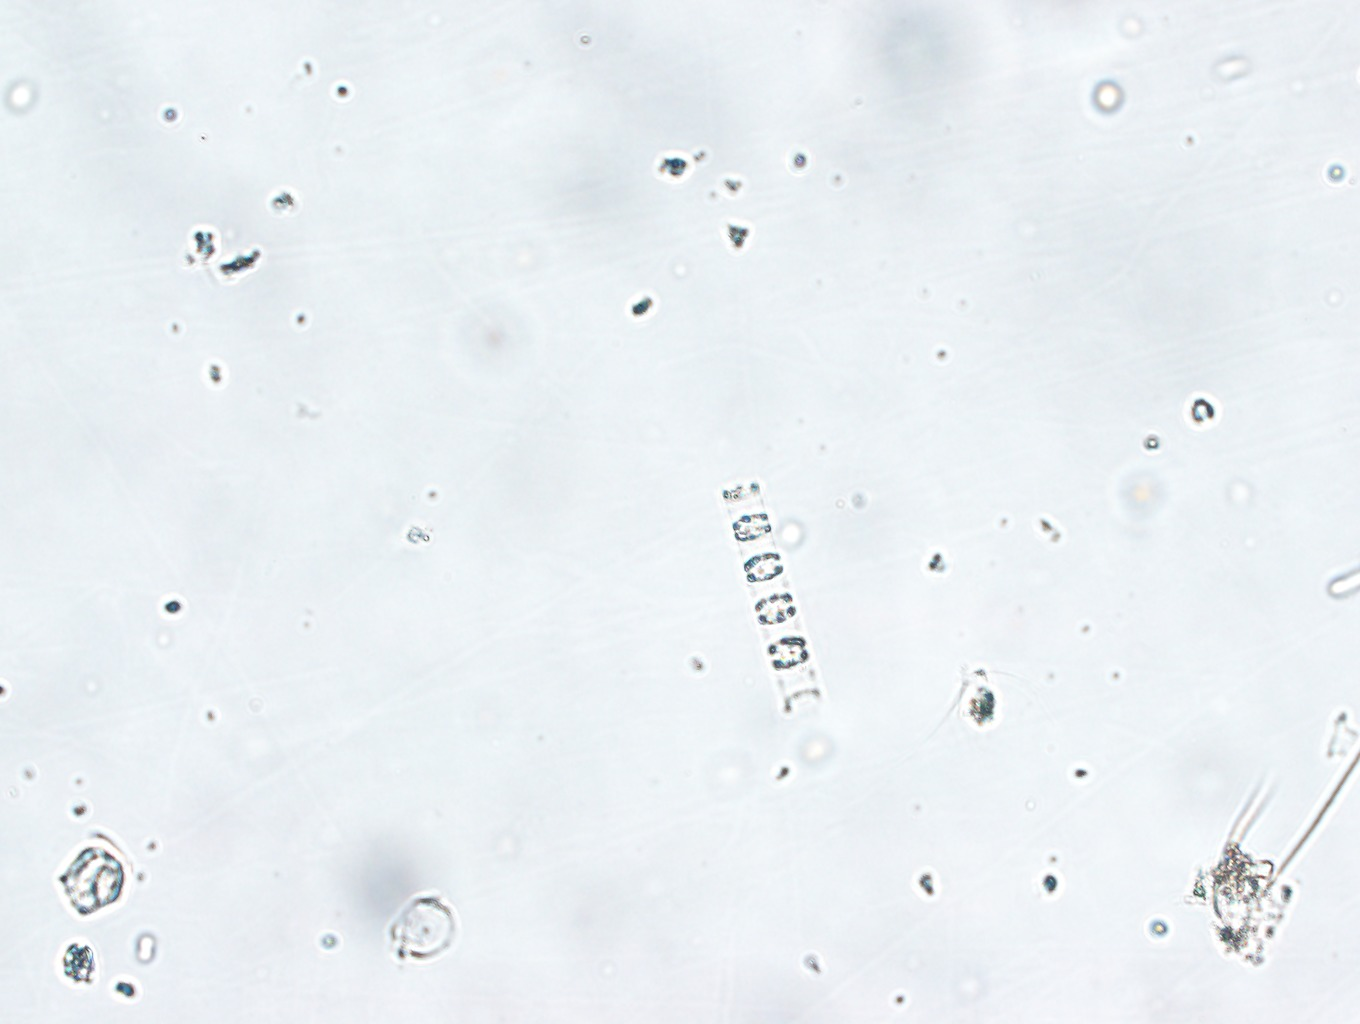skeletonema: (727, 482, 822, 713)
